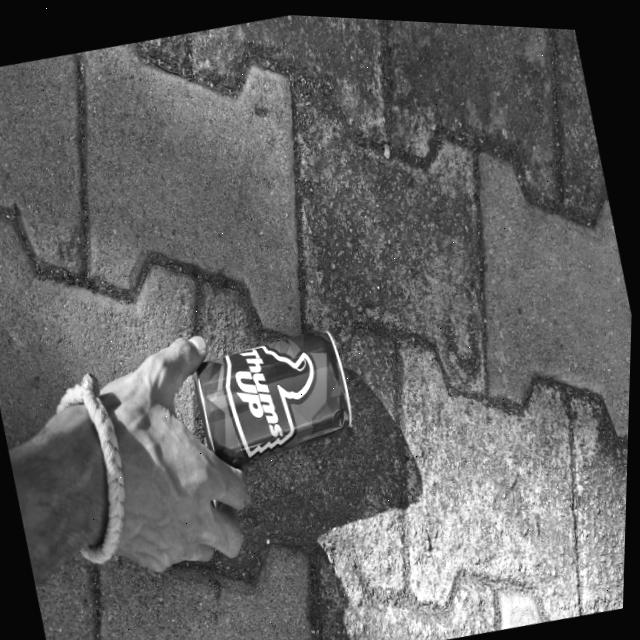Thums Up: (191, 315, 368, 472)
